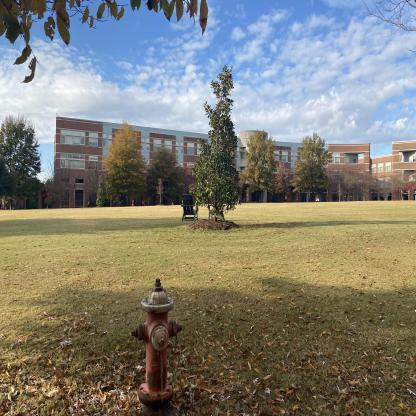EB-1: (51, 105, 376, 220)
